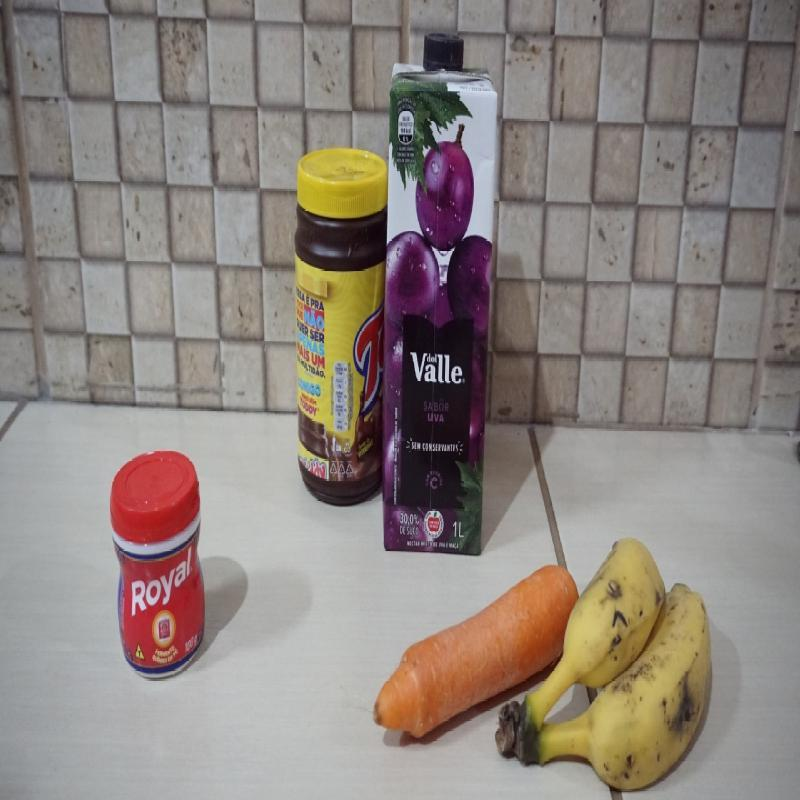Banana: (496, 539, 713, 790)
Carrot: (372, 563, 578, 738)
Chocolate Powder: (294, 148, 385, 504)
Yeast: (109, 447, 206, 682)
